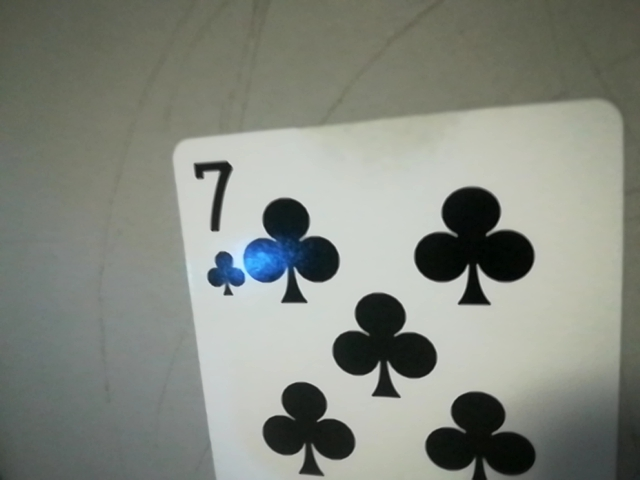mh 7: (181, 147, 246, 305)
